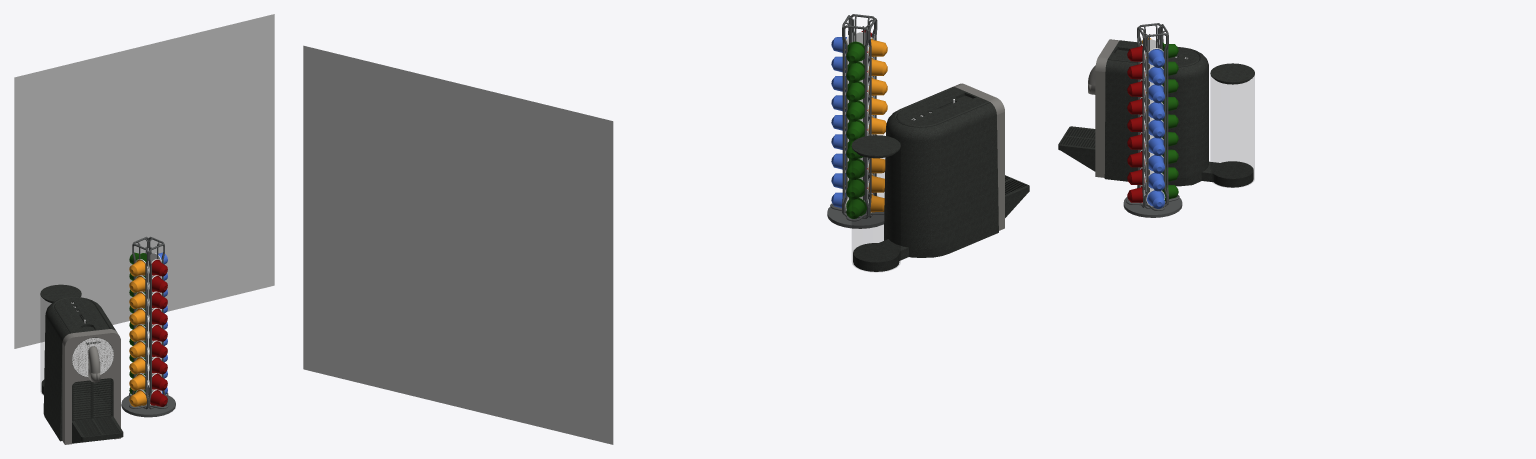
Rendered from nespresso.dae.
3 renders of one model, left to right at view 1: azimuth 30°, elevation 25°; view 2: azimuth 150°, elevation 25°; view 3: azimuth 270°, elevation 25°, orthographic. The views are drawn at different scales.
Visible parts, largest first — view 1: group_0, group_10, group_12, group_11, group_14, group_9, Foot, group_8, group_15, group_7; view 2: group_0, group_10, group_6, group_12, group_5, Foot; view 3: group_10, group_12, group_6, Foot, group_8, group_5, group_7.
Boxes of the visible parts, box(x1,y1,x2,y2) form: group_0: box(14, 14, 274, 348); group_10: box(43, 297, 116, 441); group_12: box(62, 329, 120, 444); group_11: box(72, 378, 113, 420); group_14: box(72, 338, 113, 376); group_9: box(73, 416, 121, 436); Foot: box(121, 394, 175, 417); group_8: box(72, 416, 123, 443); group_15: box(88, 346, 100, 382); group_7: box(43, 286, 77, 300); group_0: box(303, 45, 613, 444); group_10: box(884, 87, 998, 257); group_6: box(853, 239, 908, 271); group_12: box(953, 83, 1004, 230); group_5: box(852, 149, 900, 271); Foot: box(827, 205, 884, 228); group_10: box(1104, 40, 1208, 186); group_12: box(1095, 39, 1119, 177); group_6: box(1201, 161, 1253, 187); Foot: box(1123, 196, 1182, 217); group_8: box(1058, 126, 1095, 171); group_5: box(1211, 76, 1254, 187); group_7: box(1214, 65, 1251, 80).
Size of the model in its own units: 37.49 by 34.68 by 24.26.
